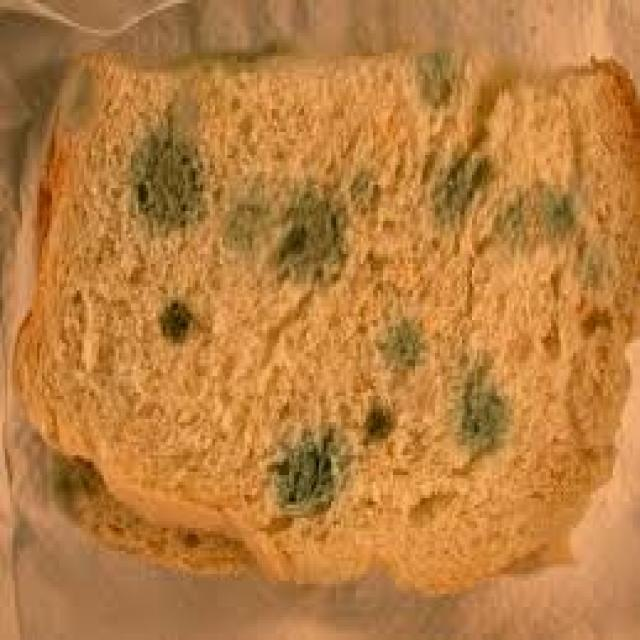Wet Waste: (12, 61, 623, 595)
